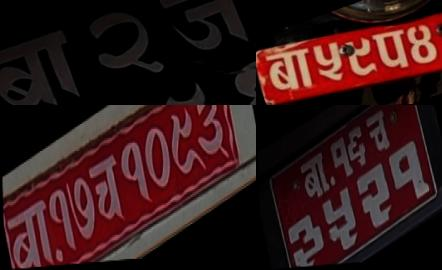0: (140, 122, 174, 197)
1: (386, 134, 433, 216), (115, 134, 154, 220), (44, 184, 77, 262), (327, 133, 355, 194)
2: (78, 0, 171, 98), (352, 160, 398, 244)
3: (284, 203, 332, 269), (191, 105, 226, 165)
4: (401, 17, 442, 67)
5: (318, 182, 365, 266), (308, 36, 352, 89)
6: (343, 119, 372, 178)
7: (64, 166, 100, 249)
9: (125, 66, 255, 105), (163, 105, 204, 189), (340, 32, 381, 81)
ba: (0, 19, 94, 105), (260, 39, 323, 103), (4, 195, 56, 270), (296, 146, 333, 210)
cha: (86, 150, 127, 236), (363, 105, 395, 165)
ja: (150, 0, 256, 78)
pa: (368, 22, 417, 81)
